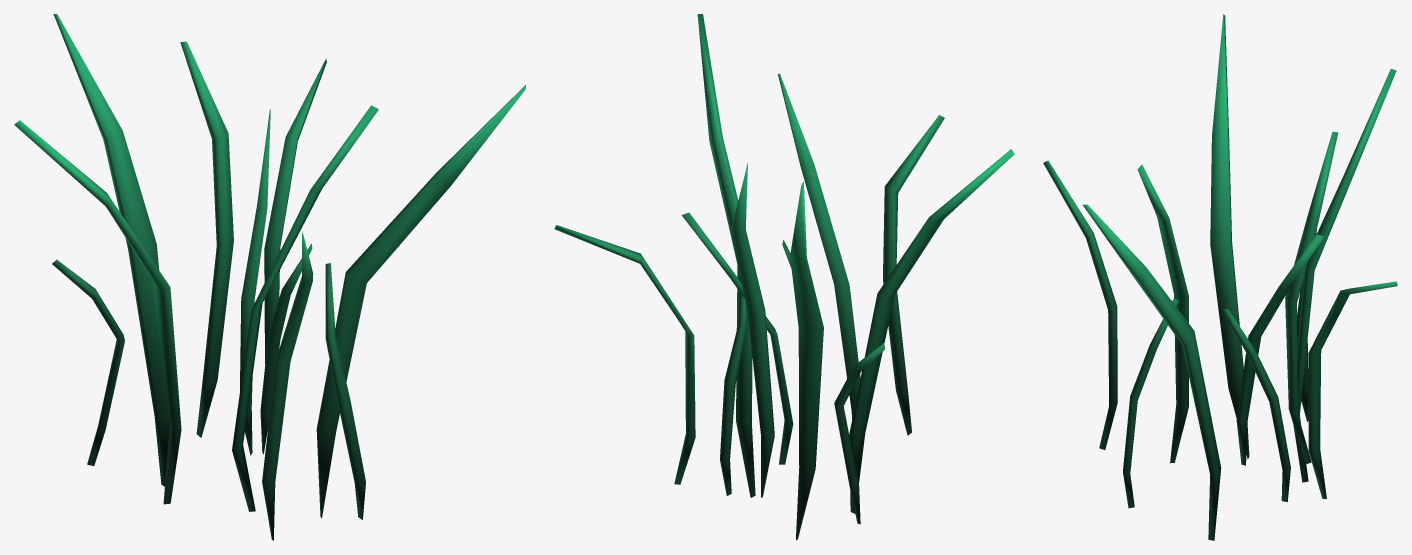
Rendered from grass10.fbx.
3 renders of one model, left to right at view 1: azimuth 30°, elevation 25°; view 2: azimuth 150°, elevation 25°; view 3: azimuth 270°, elevation 25°, orthographic. The views are drawn at different scales.
Parts seen in each view (by area): view 1: grass3; view 2: grass3; view 3: grass3.
Boxes of the visible parts, bbox=[...] form: grass3: bbox=[14, 14, 525, 540]; grass3: bbox=[554, 14, 1014, 540]; grass3: bbox=[1043, 14, 1397, 540].
Bounding box in the file's own units: 205 × 212 × 168.
